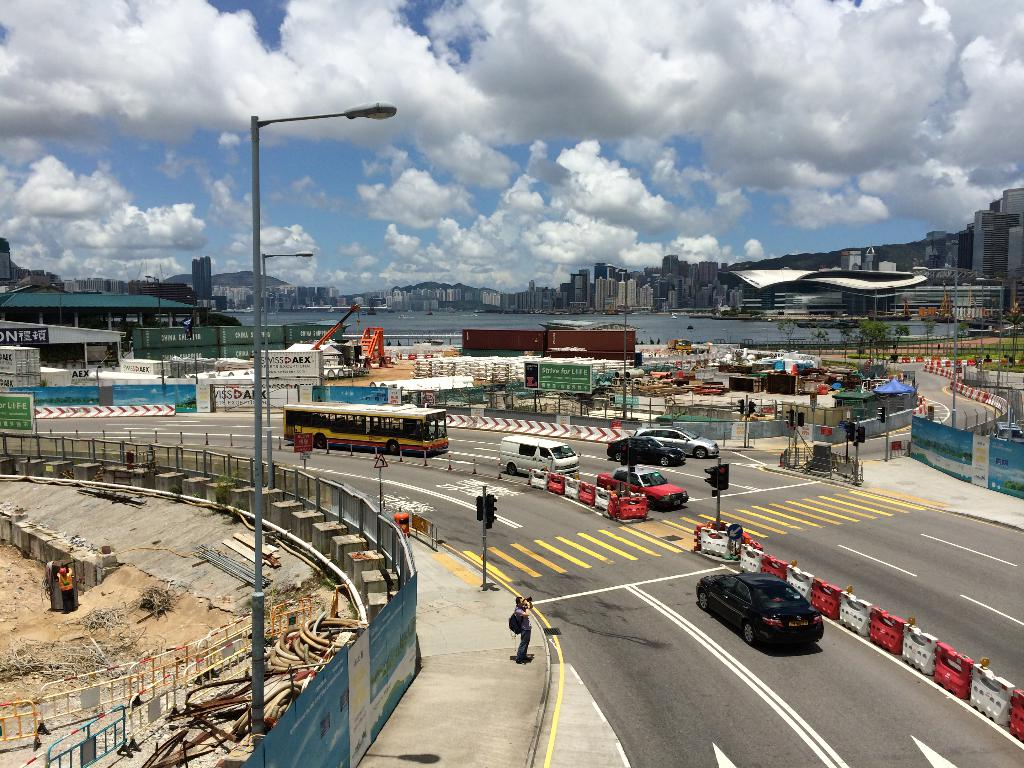Car: (692, 568, 825, 654), (599, 467, 689, 515), (602, 437, 686, 469), (632, 421, 721, 448), (989, 421, 1023, 444)
